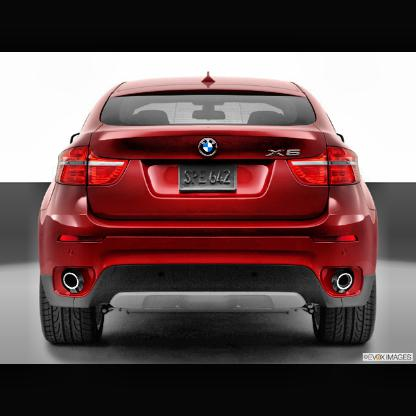BMW X6 SUV 2012: (38, 72, 382, 348)
